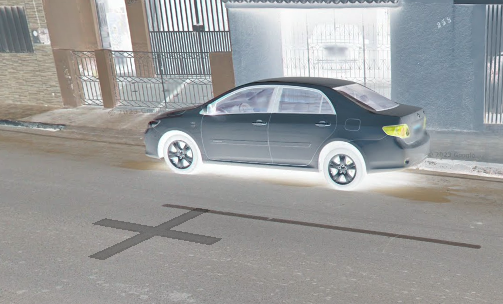car: (135, 72, 437, 200)
